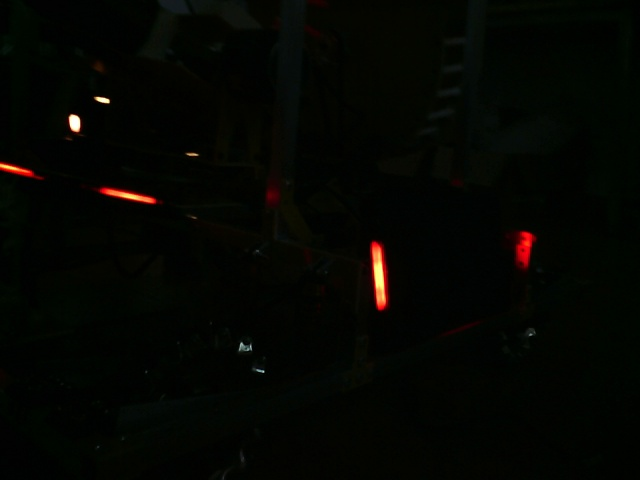lamp: (366, 238, 390, 314)
